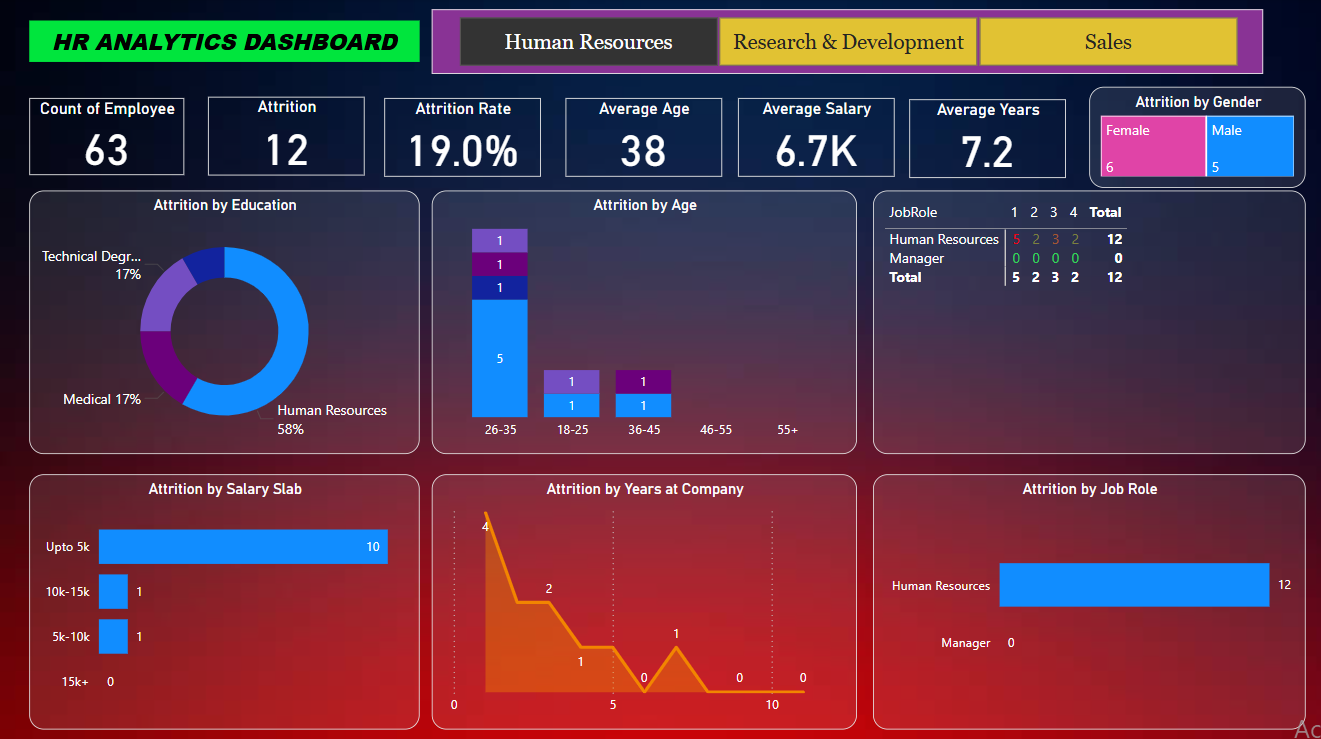

The page's visual inventory and layout, read from the dashboard file:
{"tool":"powerbi","page":{"name":"Page 1","canvas":[1280,720],"ordinal":0},"visuals":[{"type":"card","title":"Count of Employee","fields":{"Values":["CountNonNull(HR_Analytics.EmpID)"]},"box":[30.2,96.5,149.6,74.8],"z":0},{"type":"card","title":"Attrition","fields":{"Values":["HR_Analytics.Count of AttritionCount running total in AttritionCount","Sum(HR_Analytics.AttritionCount)"]},"box":[202.7,95.3,150.8,76],"z":1000},{"type":"card","title":"Attrition Rate","fields":{"Values":["HR_Analytics.AttritionRate"]},"box":[372.8,96.5,150.8,76],"z":2000},{"type":"card","title":"Average Age","fields":{"Values":["Avg(HR_Analytics.Age)"]},"box":[547.7,96.5,150.8,76],"z":3000},{"type":"card","title":"Average Salary","fields":{"Values":["Avg(HR_Analytics.MonthlyIncome)"]},"box":[714.2,96.5,150.8,76],"z":4000},{"type":"card","title":"Average Years","fields":{"Values":["Avg(HR_Analytics.YearsAtCompany)"]},"box":[879.5,97.7,150.8,76],"z":5000},{"type":"donutChart","title":"Attrition by Education","fields":{"Y":["Sum(HR_Analytics.AttritionCount)"],"Category":["HR_Analytics.EducationField"],"Series":["HR_Analytics.EducationField"]},"box":[30.2,185.8,376.4,254.6],"z":6000},{"type":"columnChart","title":"Attrition by Age","fields":{"Category":["HR_Analytics.AgeGroup"],"Y":["Sum(HR_Analytics.AttritionCount)"],"Series":["HR_Analytics.EducationField"]},"box":[418.6,185.8,410.2,254.6],"z":7000},{"type":"pivotTable","fields":{"Rows":["HR_Analytics.JobRole"],"Columns":["HR_Analytics.JobSatisfaction"],"Values":["Sum(HR_Analytics.AttritionCount)"]},"box":[844.5,185.8,417.4,254.6],"z":8000},{"type":"barChart","title":"Attrition by Salary Slab","fields":{"Category":["HR_Analytics.SalarySlab"],"Y":["Sum(HR_Analytics.AttritionCount)"]},"box":[30.2,459.7,376.4,246.1],"z":9000},{"type":"barChart","title":"Attrition by Job Role","fields":{"Category":["HR_Analytics.JobRole"],"Y":["Sum(HR_Analytics.AttritionCount)"]},"box":[844.5,459.7,417.4,246.1],"z":10000},{"type":"areaChart","title":"Attrition by Years at Company","fields":{"Category":["HR_Analytics.YearsAtCompany"],"Y":["Sum(HR_Analytics.AttritionCount)"]},"box":[418.6,459.7,410.2,246.1],"z":11000},{"type":"treemap","title":"Attrition by Gender","fields":{"Group":["HR_Analytics.Gender"],"Values":["Sum(HR_Analytics.AttritionCount)"]},"box":[1053.2,85.7,208.7,97.7],"z":12000},{"type":"slicer","fields":{"Values":["HR_Analytics.Department"]},"box":[418.6,10.9,802.3,62.7],"z":13000},{"type":"textbox","box":[30.2,21.7,376.4,39.8],"z":14000}]}

Visuals, with their boxes in screenshot pixels (x1, y1, x2, y2), scaled from the page's 1280x720 canvas onto the 1321x739 screenshot:
"Count of Employee" card: box(31, 99, 186, 176)
"Attrition" card: box(209, 98, 365, 176)
"Attrition Rate" card: box(385, 99, 540, 177)
"Average Age" card: box(565, 99, 721, 177)
"Average Salary" card: box(737, 99, 893, 177)
"Average Years" card: box(908, 100, 1063, 178)
"Attrition by Education" donutChart: box(31, 191, 420, 452)
"Attrition by Age" columnChart: box(432, 191, 855, 452)
pivotTable - HR_Analytics.JobRole x HR_Analytics.JobSatisfaction: box(872, 191, 1302, 452)
"Attrition by Salary Slab" barChart: box(31, 472, 420, 724)
"Attrition by Job Role" barChart: box(872, 472, 1302, 724)
"Attrition by Years at Company" areaChart: box(432, 472, 855, 724)
"Attrition by Gender" treemap: box(1087, 88, 1302, 188)
slicer - HR_Analytics.Department: box(432, 11, 1260, 76)
textbox: box(31, 22, 420, 63)
